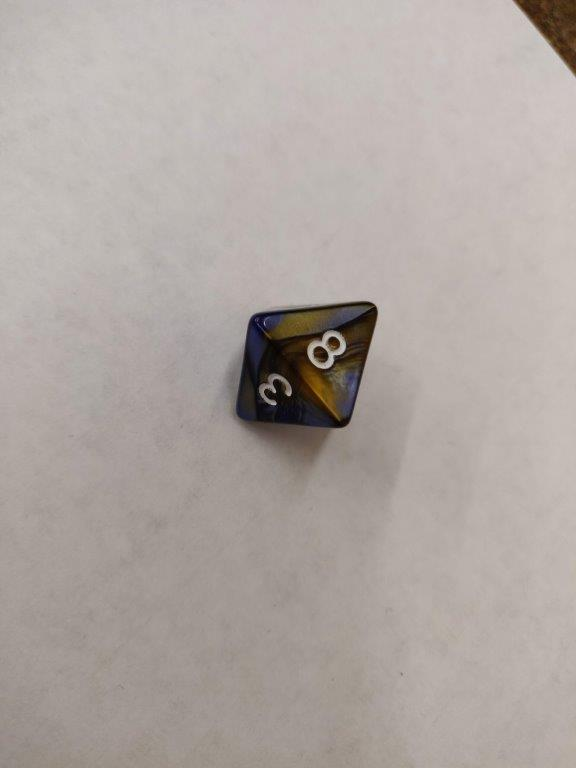d8-8: (231, 297, 382, 430)
